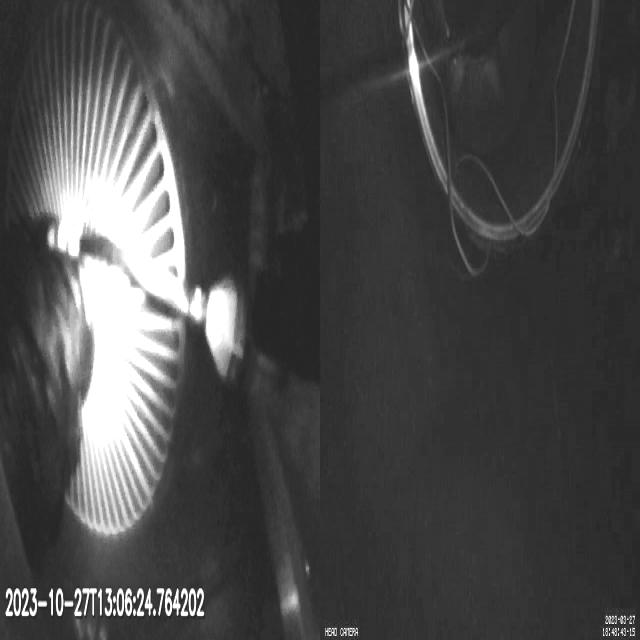head: (205, 286, 285, 400)
white-dots: (47, 218, 83, 257)
